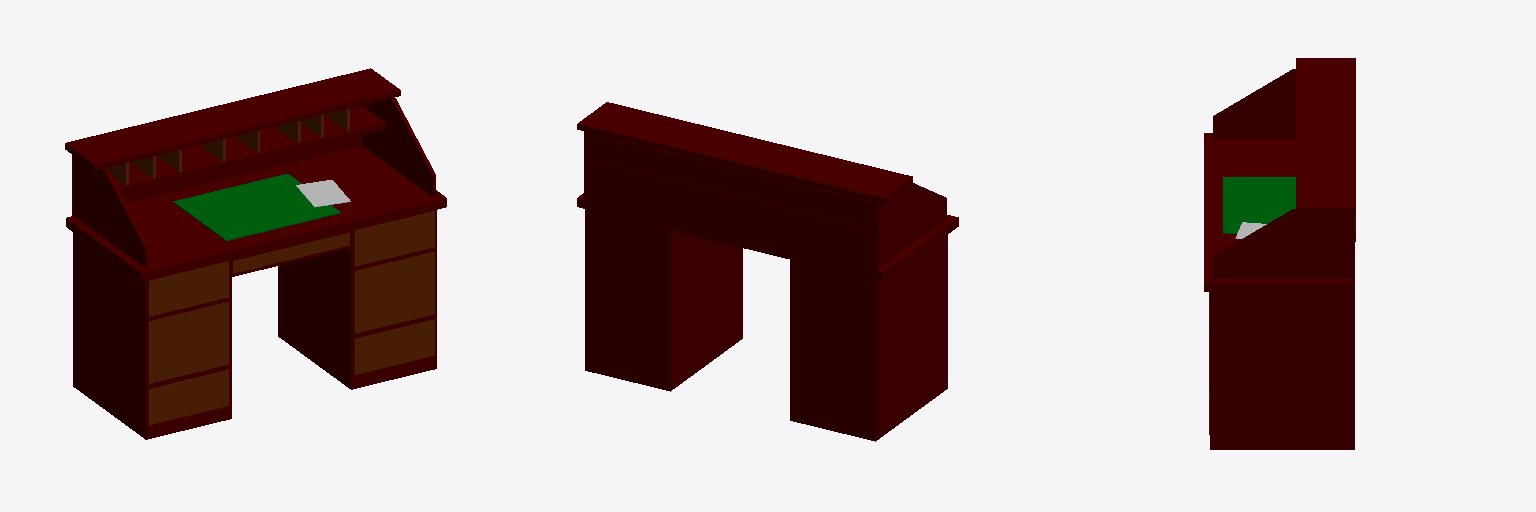
File: desk.obj
3 views of the same model, side by side, from view 1: azimuth 30°, elevation 25°; view 2: azimuth 150°, elevation 25°; view 3: azimuth 270°, elevation 25° (orthographic).
Visible parts, largest first — view 1: Mesh_middle_left_drawer; view 2: Mesh_middle_left_drawer; view 3: Mesh_middle_left_drawer.
Part boxes in pixels (bbox=[...]): Mesh_middle_left_drawer: bbox=[65, 68, 446, 439]; Mesh_middle_left_drawer: bbox=[577, 102, 958, 441]; Mesh_middle_left_drawer: bbox=[1204, 58, 1355, 449].
Bounding box in the file's own units: 5.36 × 4.09 × 2.29.